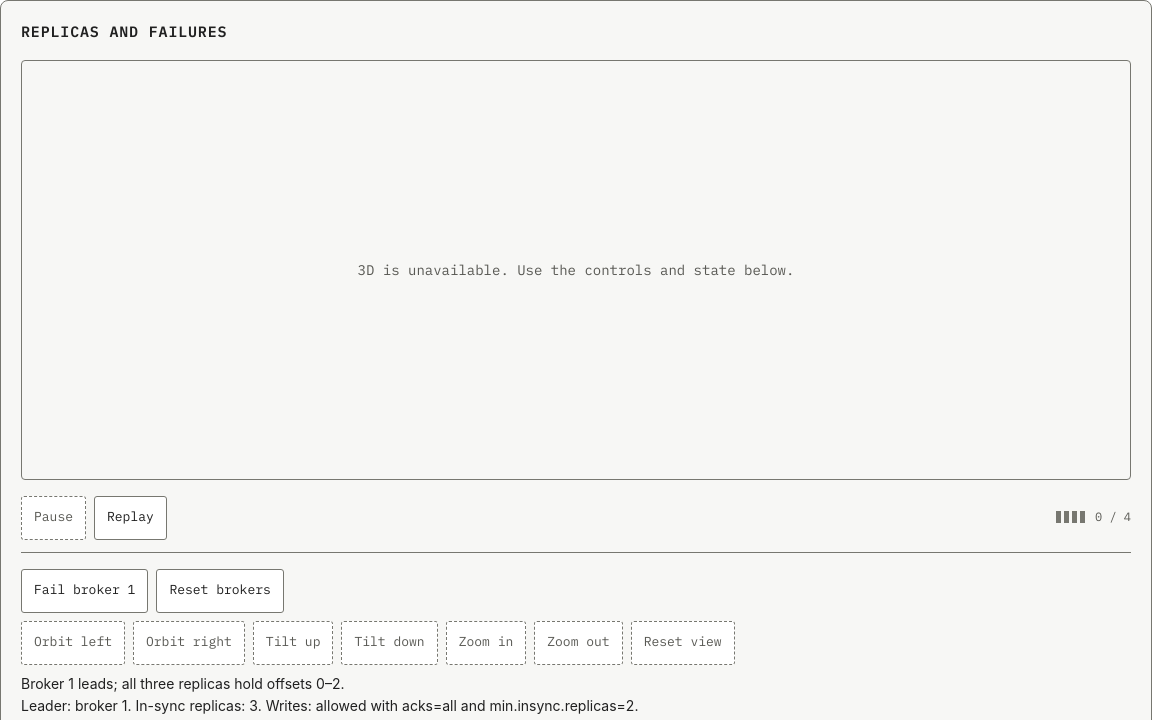
Test case: Kafka introduction 3D shells › clears loading after renderer failure and retains operable lesson controls
Check: the text "3D is unavailable. Use the controls and state below." is shown, box [358,260,794,278]
Click the button "Fail broker 1".
click(85, 590)  # box [21,568,148,612]
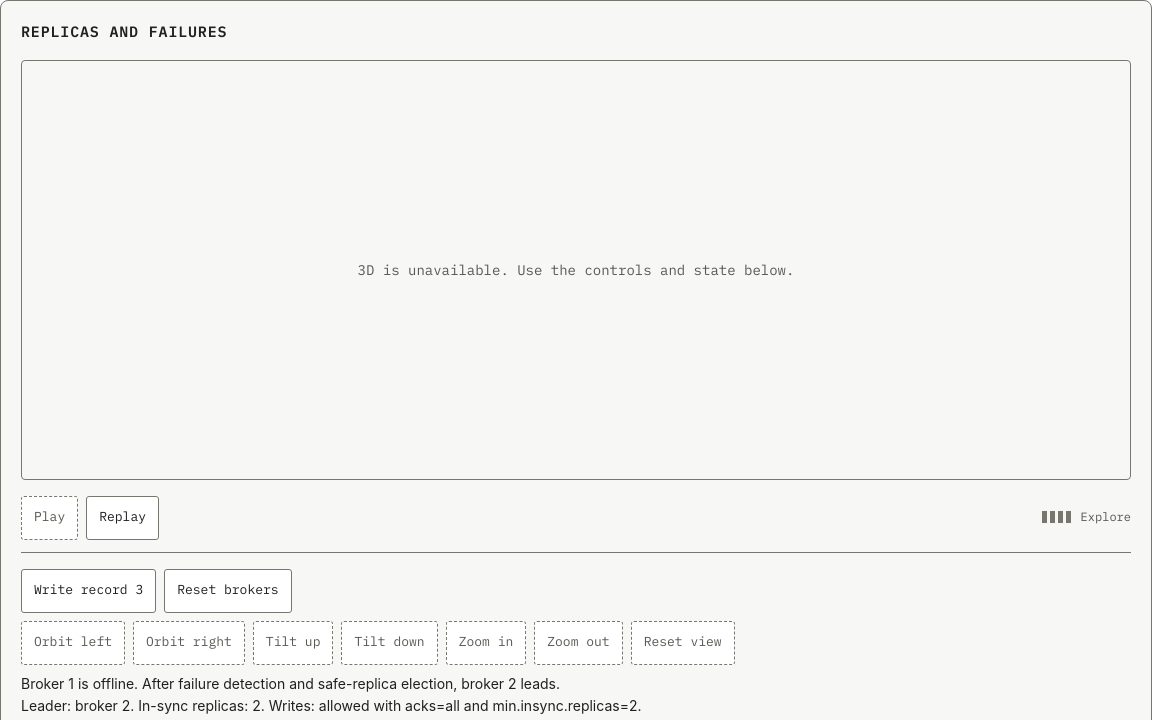
Check: the text "After failure detection" is shown, box [21,674,560,692]
